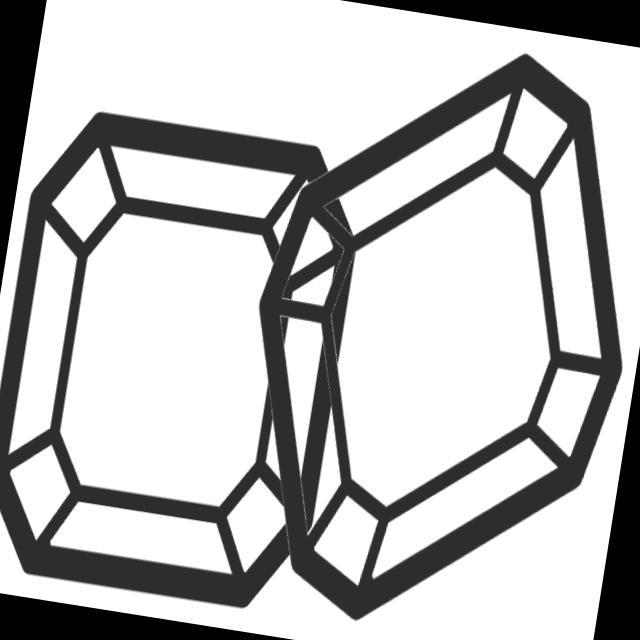emerald: (203, 10, 640, 640), (1, 85, 383, 631)
